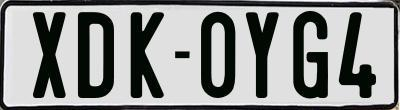0: (198, 10, 235, 102)
4: (338, 9, 381, 97)
D: (77, 9, 119, 100)
G: (292, 10, 329, 104)
K: (129, 9, 168, 100)
X: (33, 12, 66, 100)
Y: (243, 10, 276, 98)
